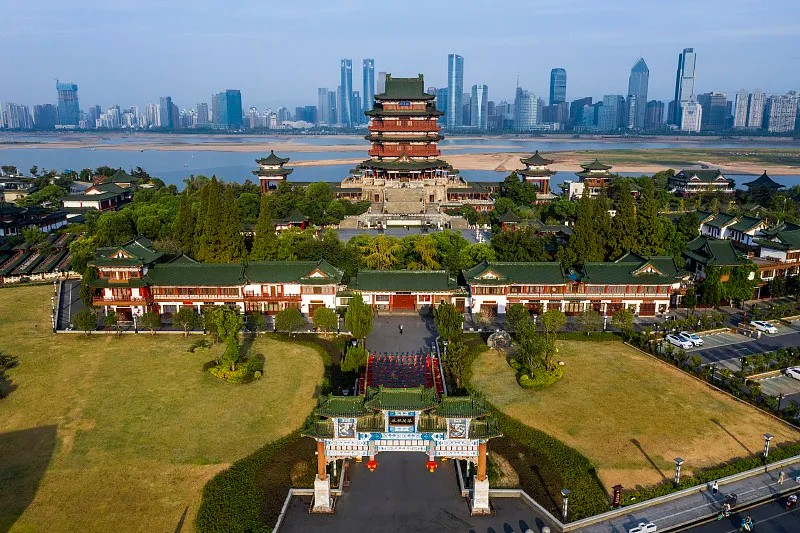Teng: (350, 73, 459, 186)
